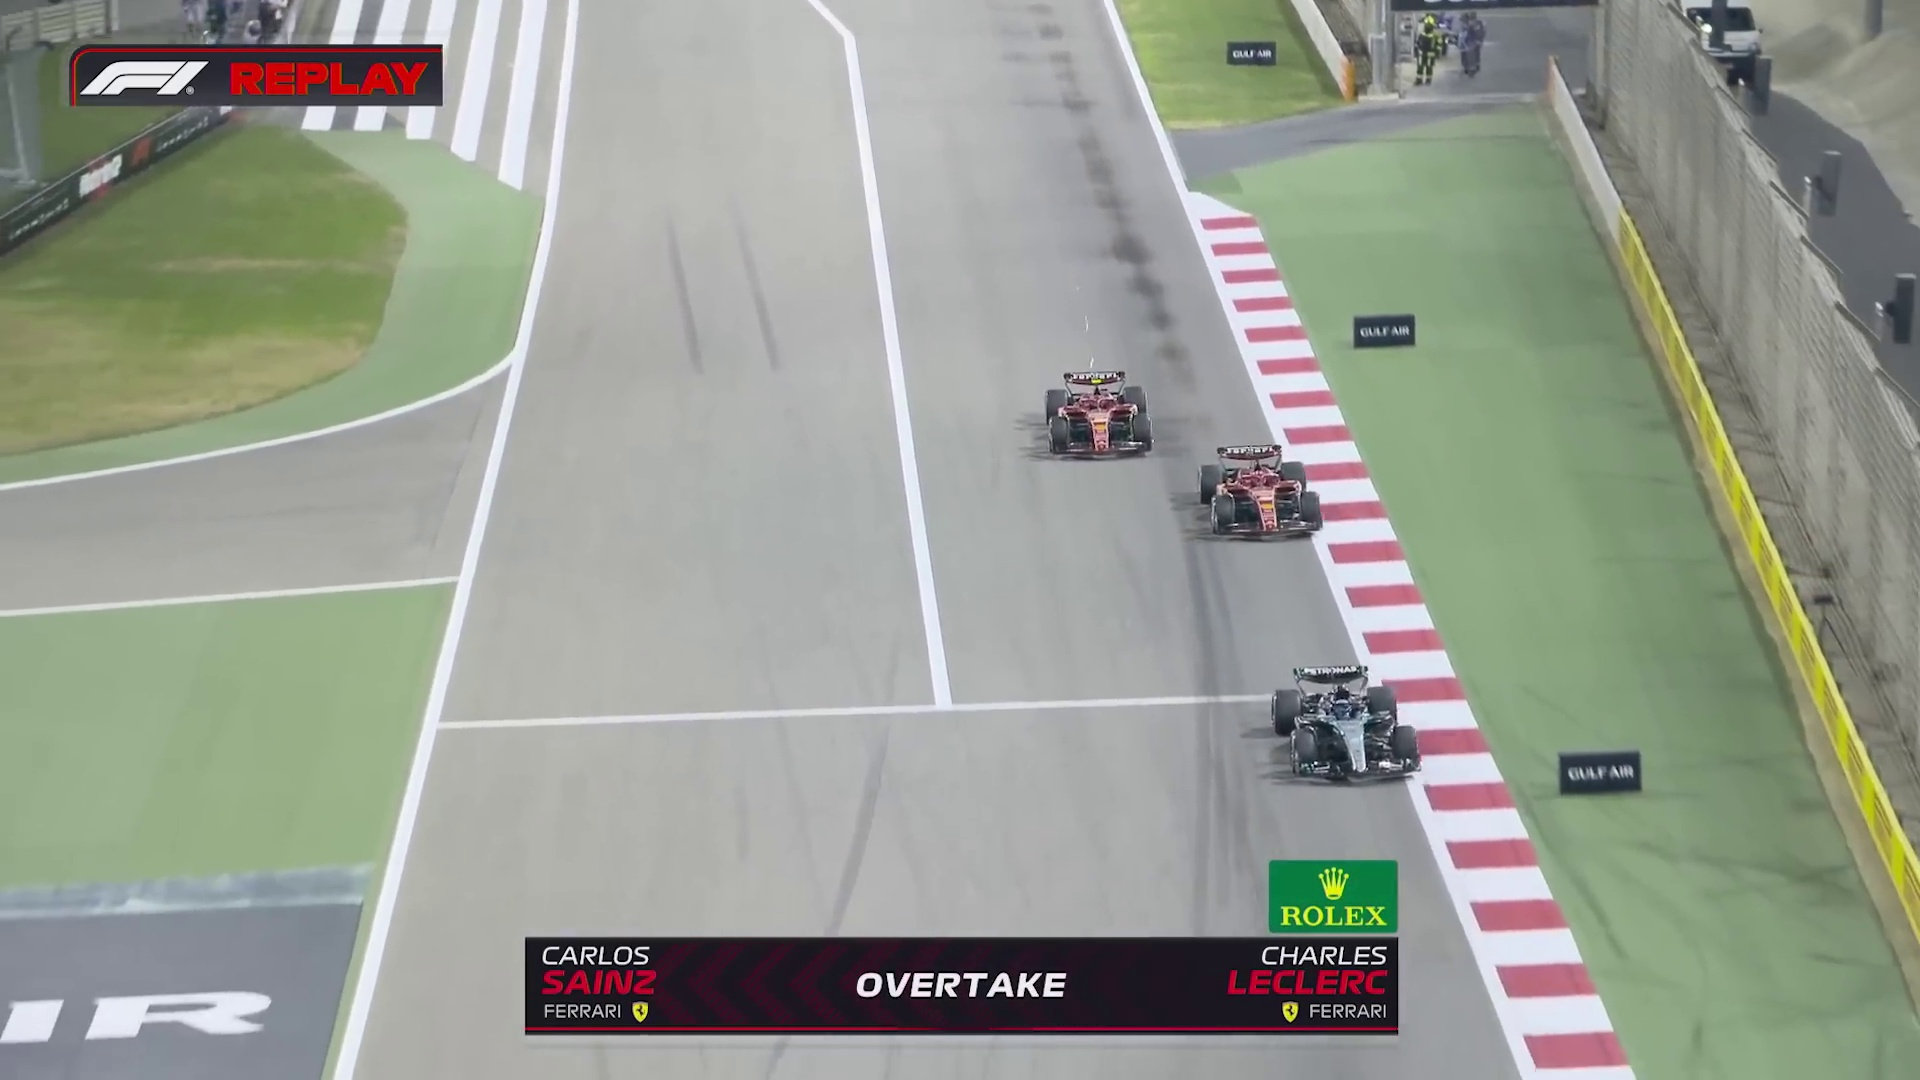Ferrari: (1193, 443, 1325, 541), (1042, 367, 1149, 463)
Mercedes: (1265, 659, 1422, 790)
